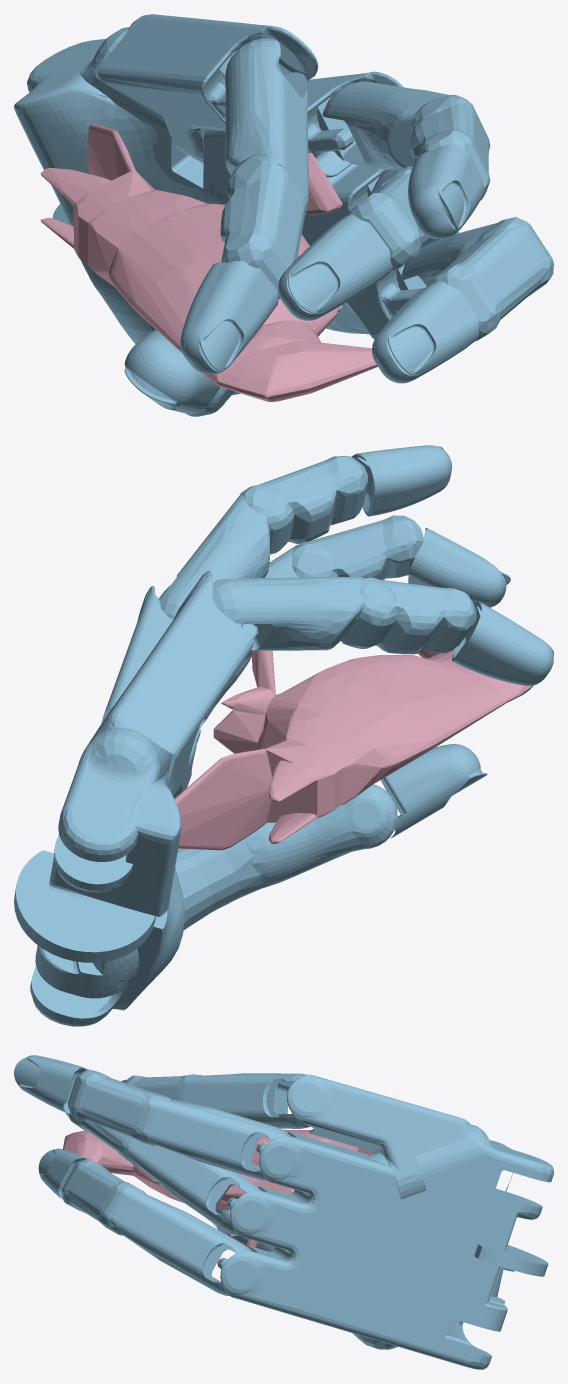
The picture shows the model from 3 angles, top to bottom: view 1: azimuth 30°, elevation 25°; view 2: azimuth 150°, elevation 25°; view 3: azimuth 270°, elevation 25°; orthographic projection. The views are drawn at different scales.
Parts seen in each view (by area): view 1: hand_isaac_q, world; view 2: hand_isaac_q, world; view 3: hand_isaac_q, world.
Part boxes in pixels (<box>): hand_isaac_q: <box>14,14,553,416</box>; world: <box>40,123,377,401</box>; hand_isaac_q: <box>14,445,553,1026</box>; world: <box>174,648,533,850</box>; hand_isaac_q: <box>14,1055,553,1369</box>; world: <box>63,1129,372,1247</box>.
Bounding box in the file's own units: 0.1091 × 0.1157 × 0.1951.
